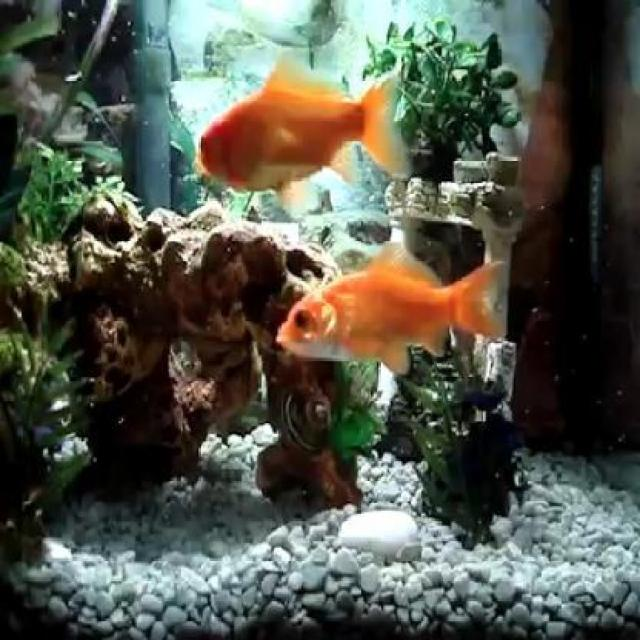GoldFish: (193, 50, 412, 198), (277, 238, 509, 377)
